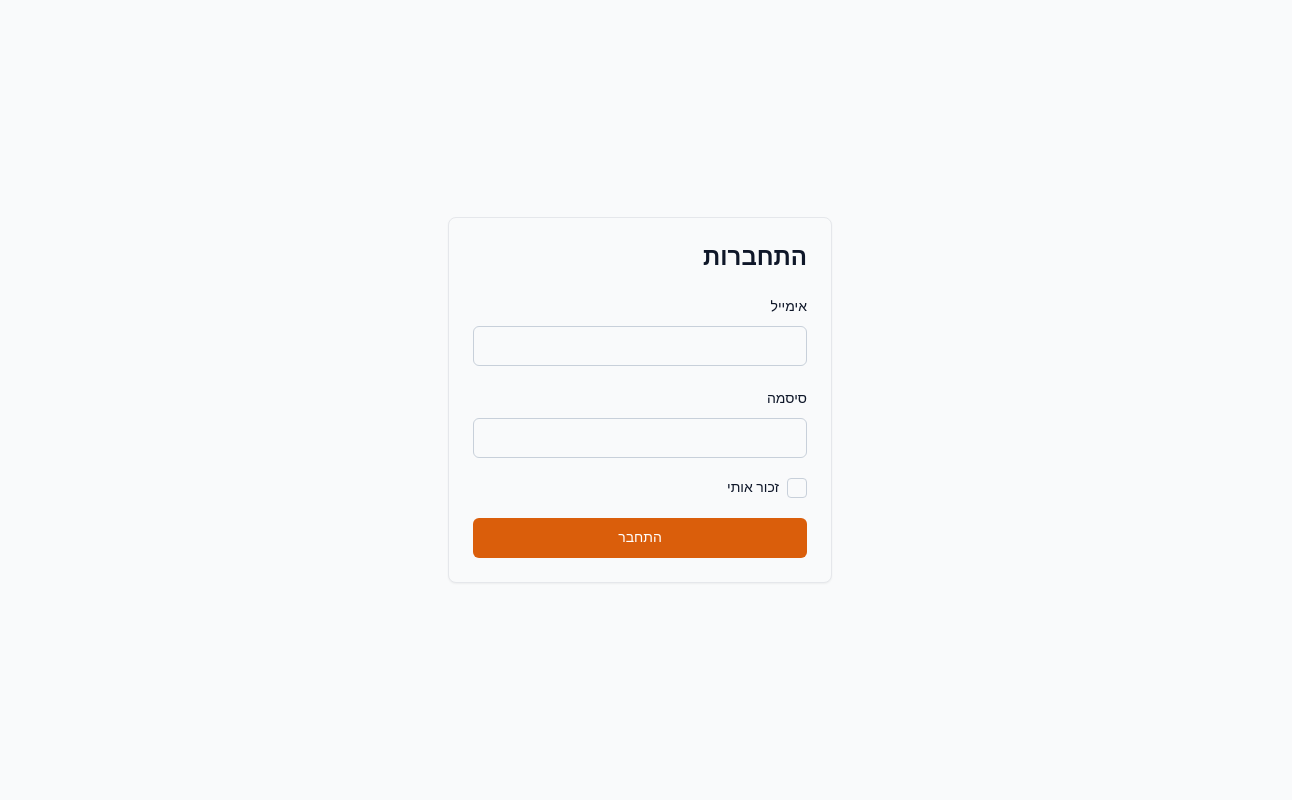
Test: S01 Login › logs admin@dev.local in and lands on /
Type "admin@dev.local" into the field labelled "אימייל".
click(640, 346); type("admin@dev.local")  # box [473,326,807,366]
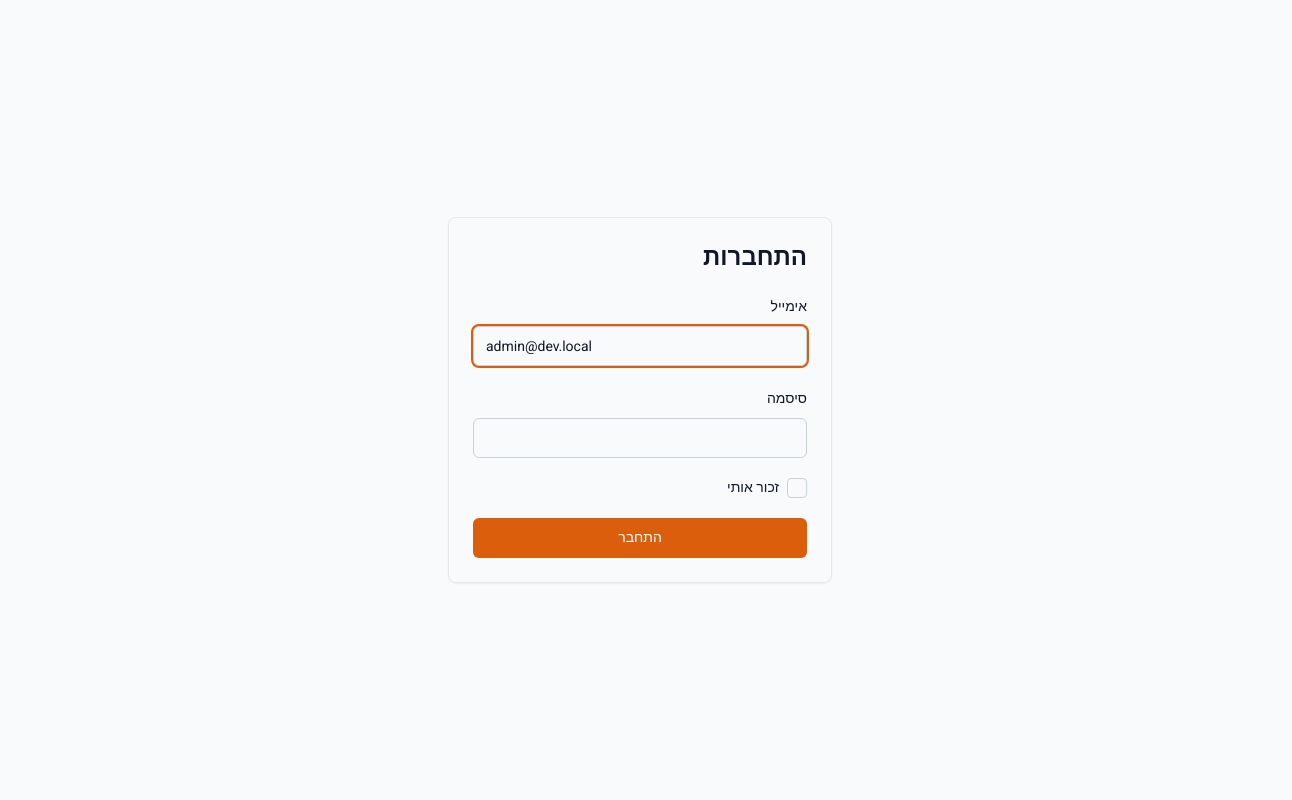
Type "Passw0rd!" into the password field labelled "סיסמה".
click(640, 438); type("Passw0rd!")  # box [473,418,807,458]
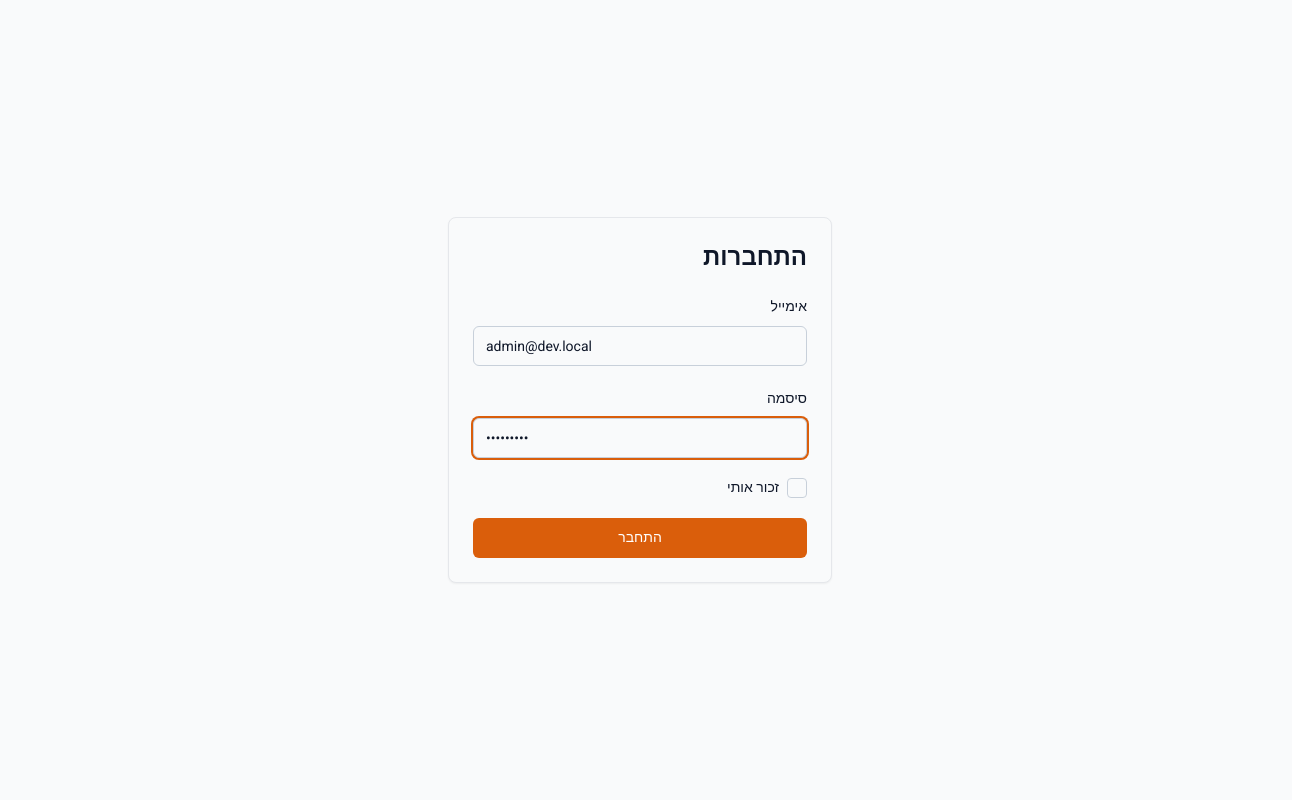
Click the button "התחבר".
click(640, 538)  # box [473,518,807,558]
(page scrolled)
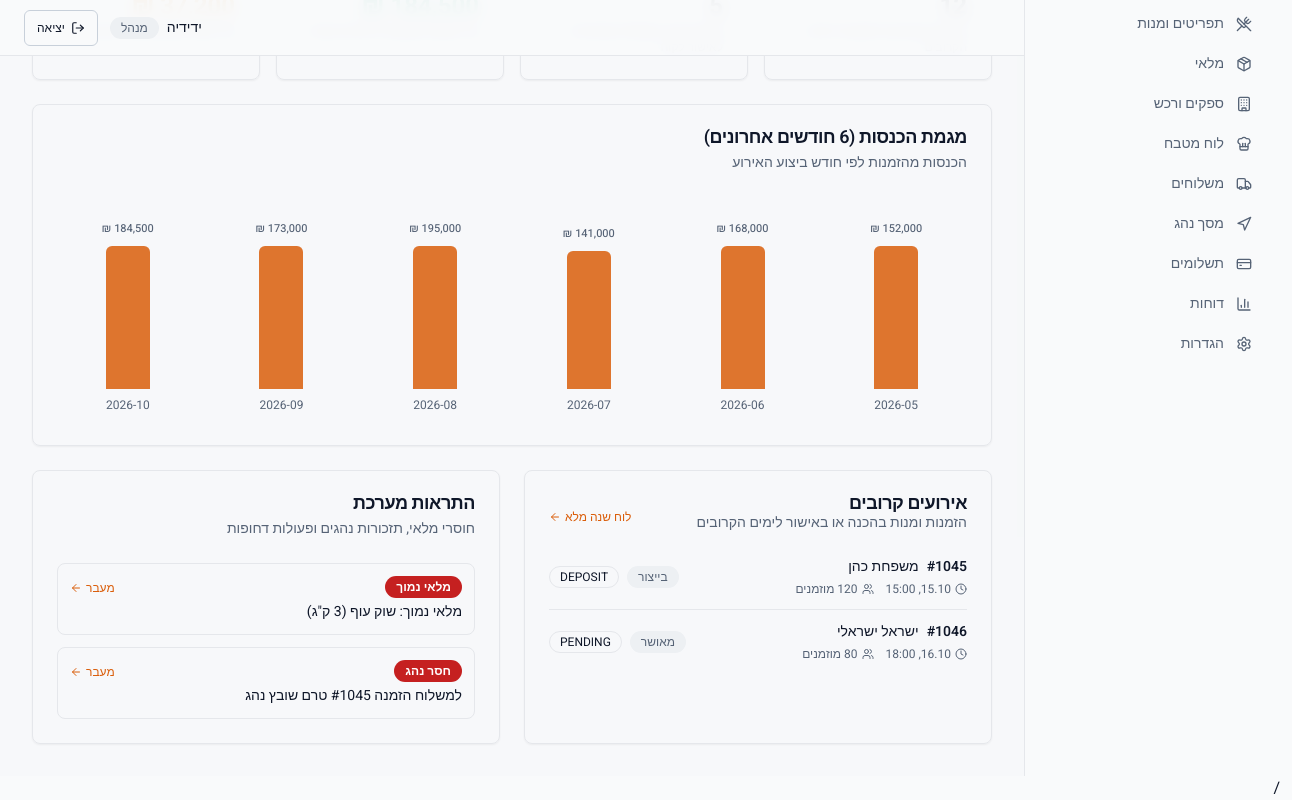
Expected: the text with test id "pathname" reads "/", [1273,776,1280,799]
